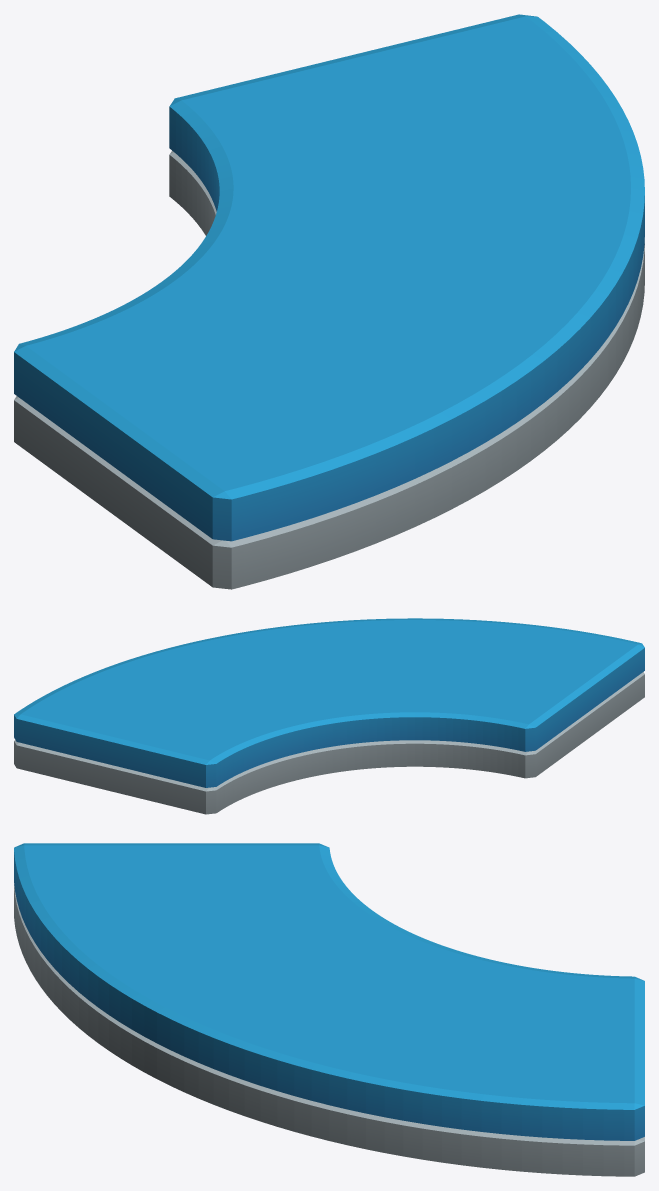
File: kaykit_platform_quarter_curve_8x8x1_blue.glb
3 views of the same model, one above another, from view 1: azimuth 30°, elevation 25°; view 2: azimuth 150°, elevation 25°; view 3: azimuth 270°, elevation 25° (orthographic). The views are drawn at different scales.
Parts seen in each view (by area): view 1: kaykit_platform_quarter_curve_blue_visual; view 2: kaykit_platform_quarter_curve_blue_visual; view 3: kaykit_platform_quarter_curve_blue_visual.
Part boxes in pixels (bbox=[...]): kaykit_platform_quarter_curve_blue_visual: bbox=[14, 14, 644, 589]; kaykit_platform_quarter_curve_blue_visual: bbox=[14, 618, 644, 814]; kaykit_platform_quarter_curve_blue_visual: bbox=[14, 843, 644, 1176].
Size of what is drawn, in the model's own units: 8 by 1 by 8.
1 material, 1 textured.
